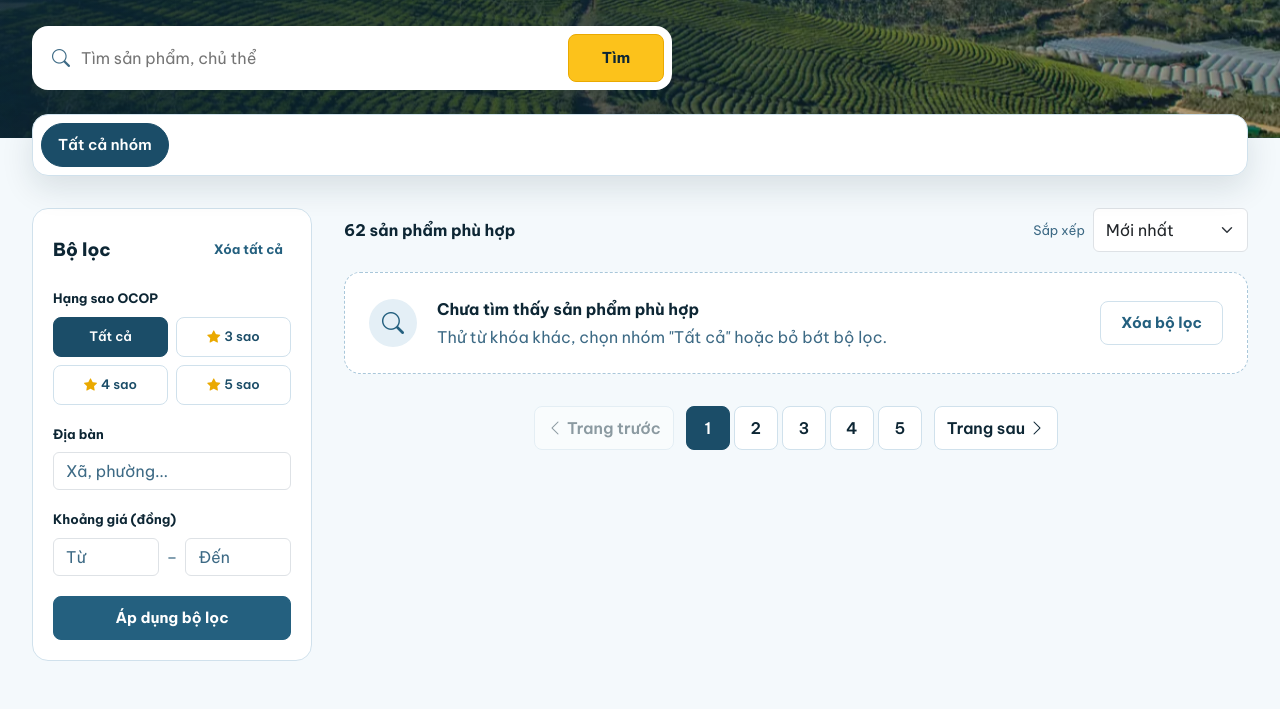
Test case: ProductsView › bo loc nhap va chuan hoa tham so URL › loc gia 1500 duoc ap dung thanh chip, o gia khong co step 1000
(page scrolled)
Type "1500" into the number field named "Giá tối thiểu" at [106, 557], box [53, 538, 158, 576]
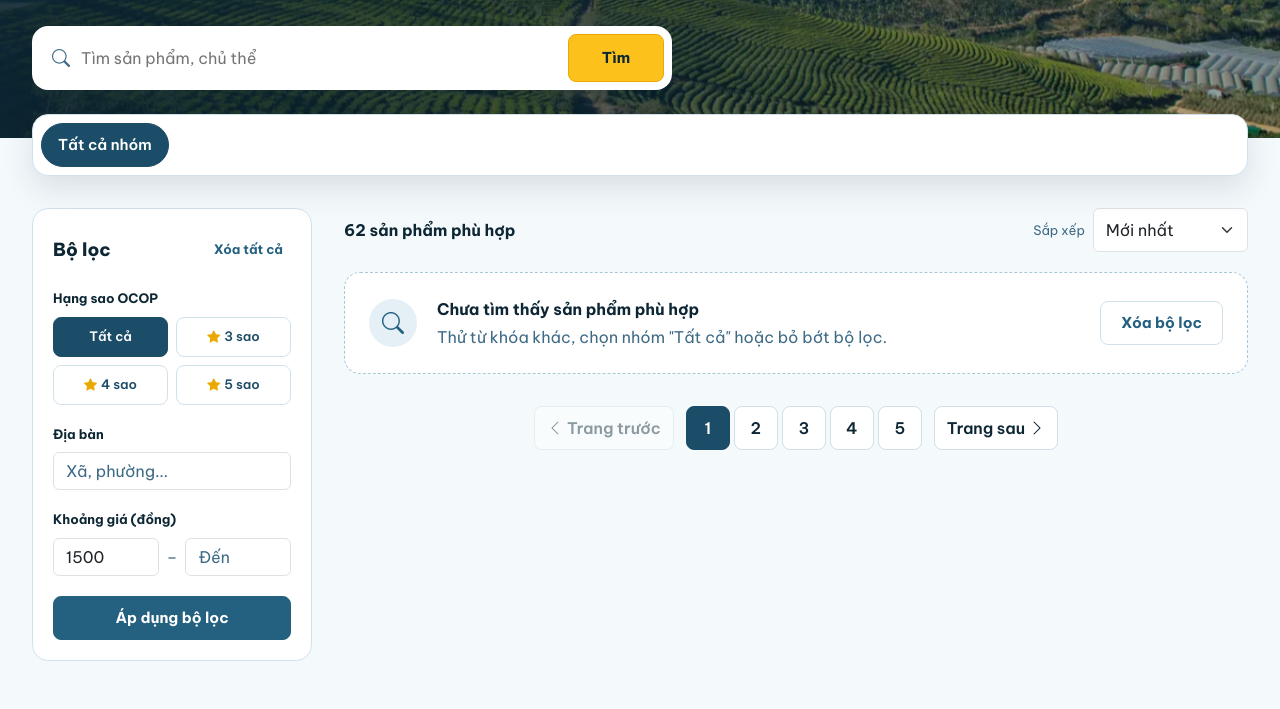
Submit the form with class "filter-panel", box [32, 208, 312, 661]
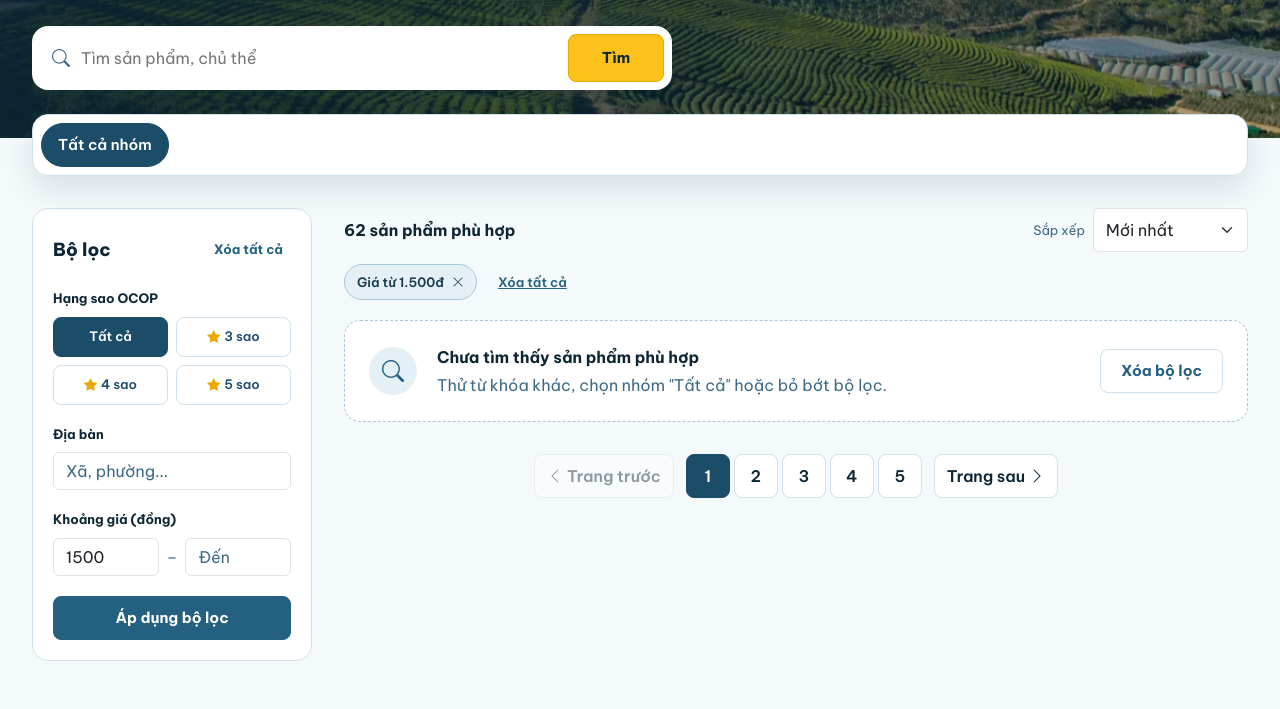
expect the element with class "active-filters" shows "Giá từ 1.500đ": met, box [344, 264, 477, 300]
